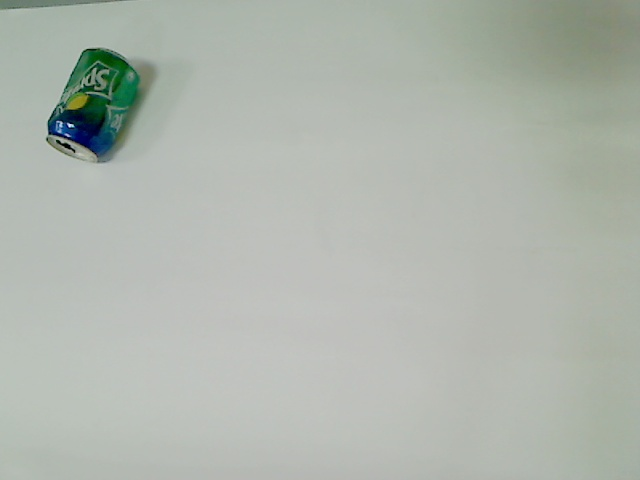can: (43, 45, 144, 166)
